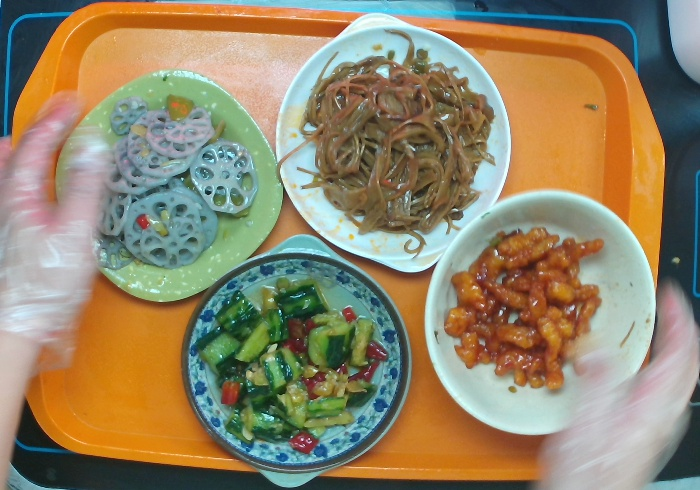NLDX-Bai_Se_Shuang_Er_Die: (274, 6, 521, 276)
NLDX-Bai_Se_Yuan_Wan: (419, 182, 661, 441)
NLDX-Lv_Hua_Fang_Die: (52, 62, 293, 313)
NLDX-Qing_Hua_Shuang_Er_Die: (174, 230, 414, 490)
